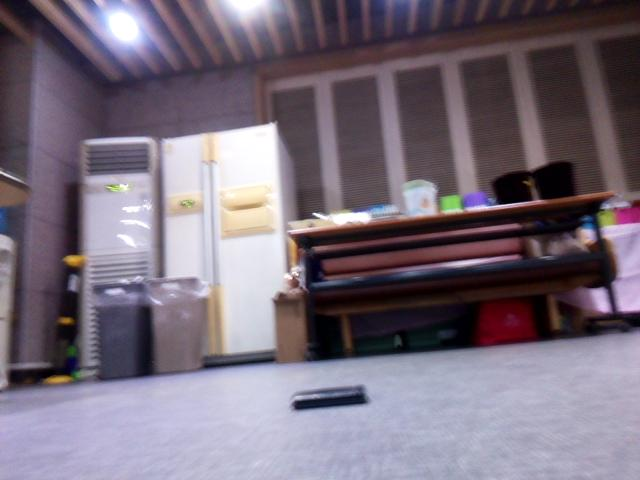wallet: (289, 381, 372, 413)
